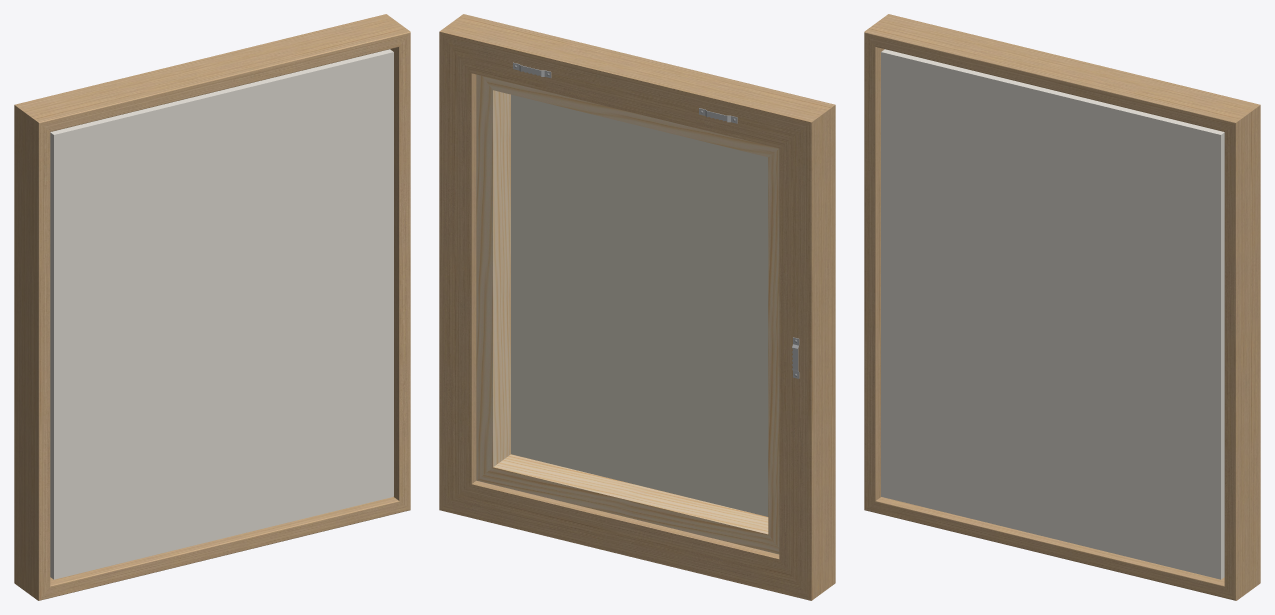
Rendered from delivery.glb.
3 renders of one model, left to right at view 1: azimuth 30°, elevation 25°; view 2: azimuth 150°, elevation 25°; view 3: azimuth 330°, elevation 25°, orthographic.
Visible parts, largest first — view 1: Canvas artwork front, Tray approved profile 0; view 2: Canvas linen reverse, Tray approved profile 0, Stretcher top, Sawtooth hanger 0; view 3: Canvas artwork front, Tray approved profile 0.
Part boxes in pixels (bbox=[...]): Canvas artwork front: bbox=[50, 49, 393, 579]; Tray approved profile 0: bbox=[14, 14, 410, 600]; Canvas linen reverse: bbox=[511, 94, 768, 516]; Tray approved profile 0: bbox=[439, 14, 835, 600]; Stretcher top: bbox=[476, 74, 779, 554]; Sawtooth hanger 0: bbox=[513, 62, 799, 378]; Canvas artwork front: bbox=[881, 49, 1224, 579]; Tray approved profile 0: bbox=[864, 14, 1260, 600].
Bounding box in the file's own units: 0.438 × 0.538 × 0.0524.
Materials: 7 (3 with a texture image).
